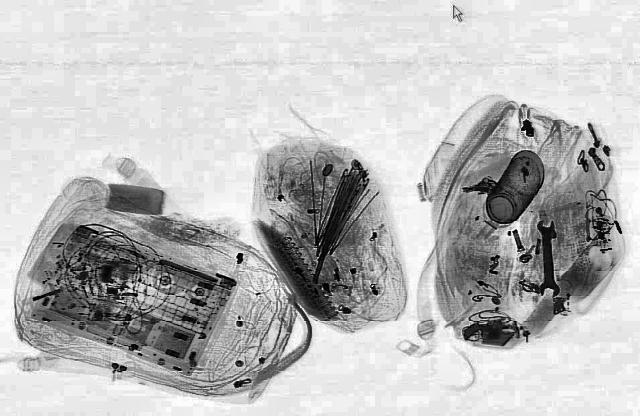Wrench: (534, 220, 560, 296)
